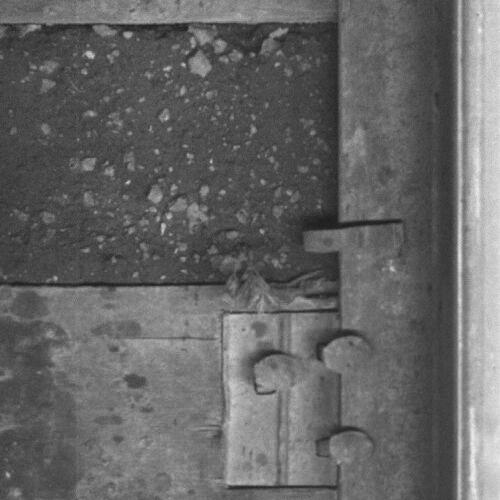crutch: (301, 221, 407, 253)
do: (223, 310, 375, 486)
rail: (455, 1, 500, 500)
tie_wood: (1, 285, 339, 500)
